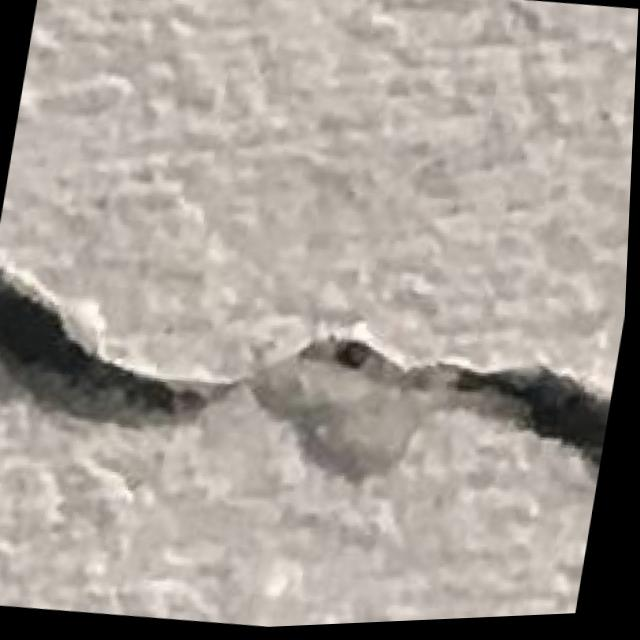Crack: (0, 216, 632, 539)
